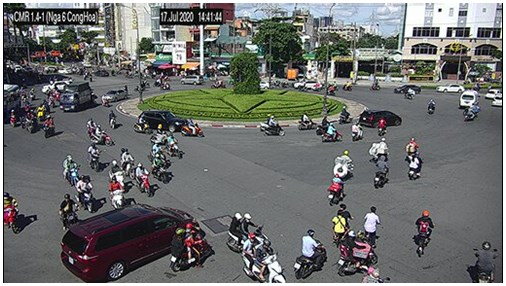xe_hoi: (62, 205, 199, 281), (360, 110, 402, 128), (459, 89, 479, 108), (103, 88, 128, 101), (394, 84, 421, 95), (435, 83, 464, 93), (42, 82, 69, 92), (179, 75, 202, 86), (487, 88, 502, 98), (492, 94, 502, 106)
xe_may: (240, 233, 286, 282), (339, 229, 379, 277), (229, 212, 273, 255), (170, 225, 211, 271), (295, 229, 325, 279), (471, 240, 497, 283), (3, 191, 21, 234), (58, 193, 79, 228), (77, 175, 95, 213), (135, 161, 153, 198), (62, 154, 80, 189), (109, 159, 128, 192), (150, 154, 169, 186), (334, 150, 353, 181), (119, 147, 136, 181), (374, 155, 390, 190), (109, 176, 125, 209), (328, 173, 344, 205), (180, 116, 203, 138), (150, 125, 174, 145), (407, 150, 422, 182), (370, 138, 388, 164), (263, 115, 284, 137), (92, 123, 112, 146), (165, 132, 181, 160), (150, 141, 167, 167), (297, 111, 317, 133), (87, 141, 101, 171), (321, 124, 341, 143), (316, 115, 336, 134), (132, 115, 151, 134), (404, 137, 419, 161), (43, 114, 56, 139), (351, 120, 364, 144), (463, 102, 478, 121), (377, 116, 387, 138), (339, 104, 350, 123), (86, 118, 95, 139), (9, 110, 18, 129), (37, 103, 46, 121), (25, 112, 32, 134), (212, 78, 226, 89), (109, 109, 116, 130), (427, 97, 436, 113), (161, 79, 172, 91), (49, 93, 57, 109), (341, 80, 352, 91), (101, 94, 109, 108), (327, 83, 335, 96), (371, 81, 380, 92)
xe_tai: (59, 83, 91, 110)
